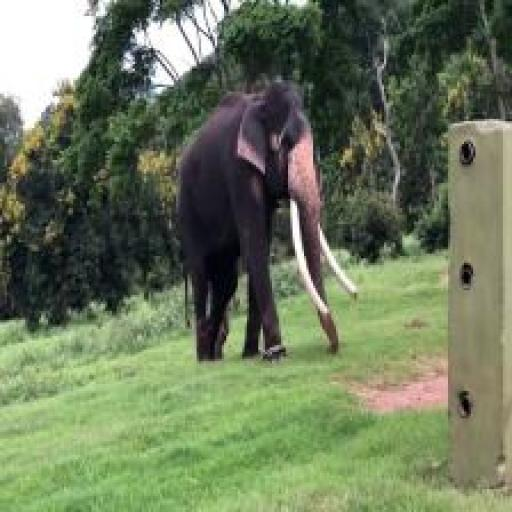Elephant: (174, 78, 361, 378)
